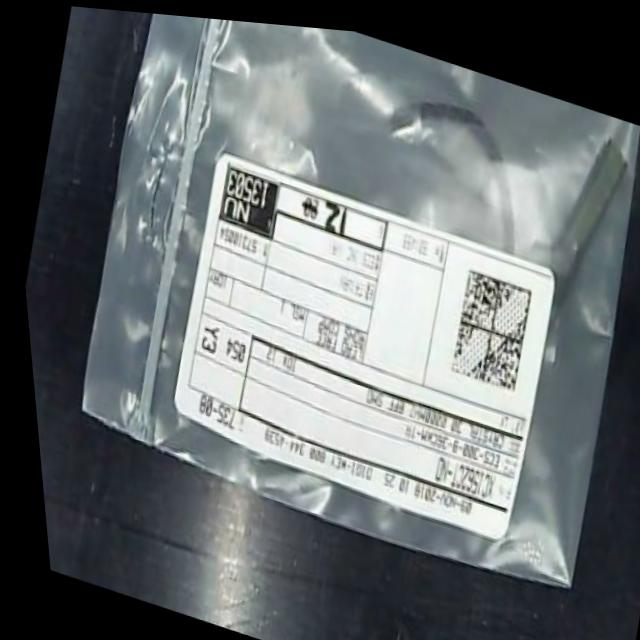datamatrix: (433, 253, 538, 391)
